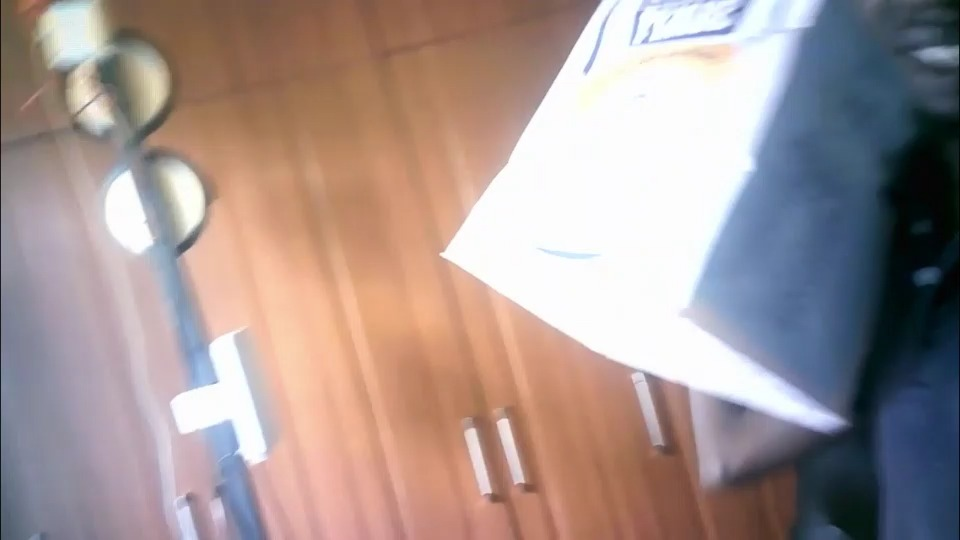wheat_flour_blue_label: (436, 0, 928, 425)
